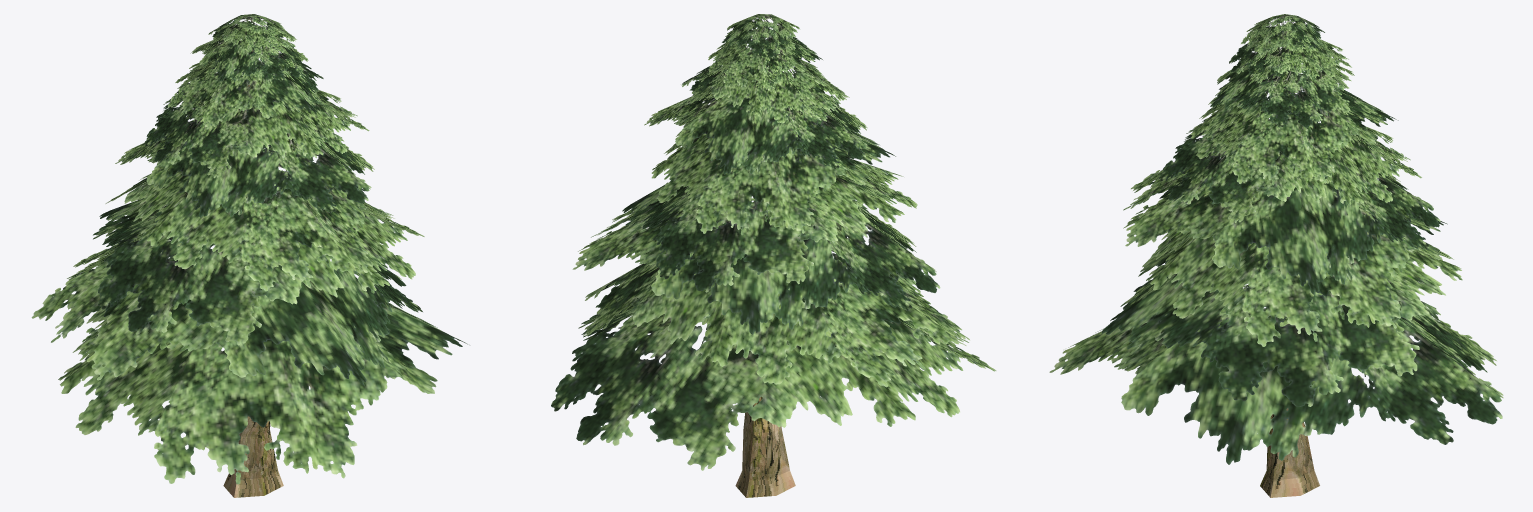
Rendered from Tree_B1.fbx.
3 renders of one model, left to right at view 1: azimuth 30°, elevation 25°; view 2: azimuth 150°, elevation 25°; view 3: azimuth 270°, elevation 25°, orthographic.
Visible parts, largest first — view 1: Tree_B1; view 2: Tree_B1; view 3: Tree_B1.
Part boxes in pixels (box(x1,y1,x2,y2)): Tree_B1: box(31, 14, 467, 497); Tree_B1: box(551, 14, 996, 497); Tree_B1: box(1049, 14, 1503, 497).
Bounding box in the file's own units: 7.06 × 7.66 × 7.06.
